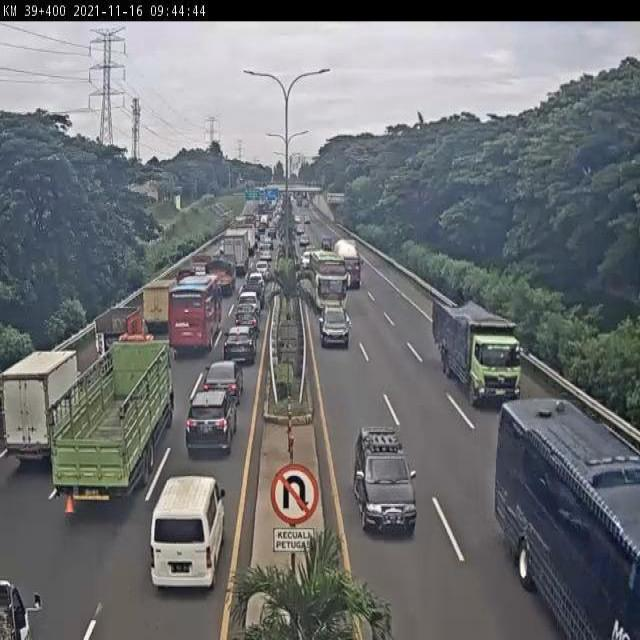big bus: (496, 400, 640, 640), (167, 272, 217, 352), (307, 249, 345, 308)
car: (353, 426, 417, 534), (185, 384, 240, 456), (203, 364, 244, 405), (320, 303, 350, 349), (221, 329, 253, 368), (232, 308, 259, 335), (236, 288, 261, 316)
small bus: (148, 474, 223, 590)
small truck: (93, 309, 148, 360), (142, 282, 176, 338), (198, 258, 234, 298)
truck-l-: (50, 341, 175, 499), (433, 296, 524, 407)
truck-m-: (1, 351, 82, 458)
